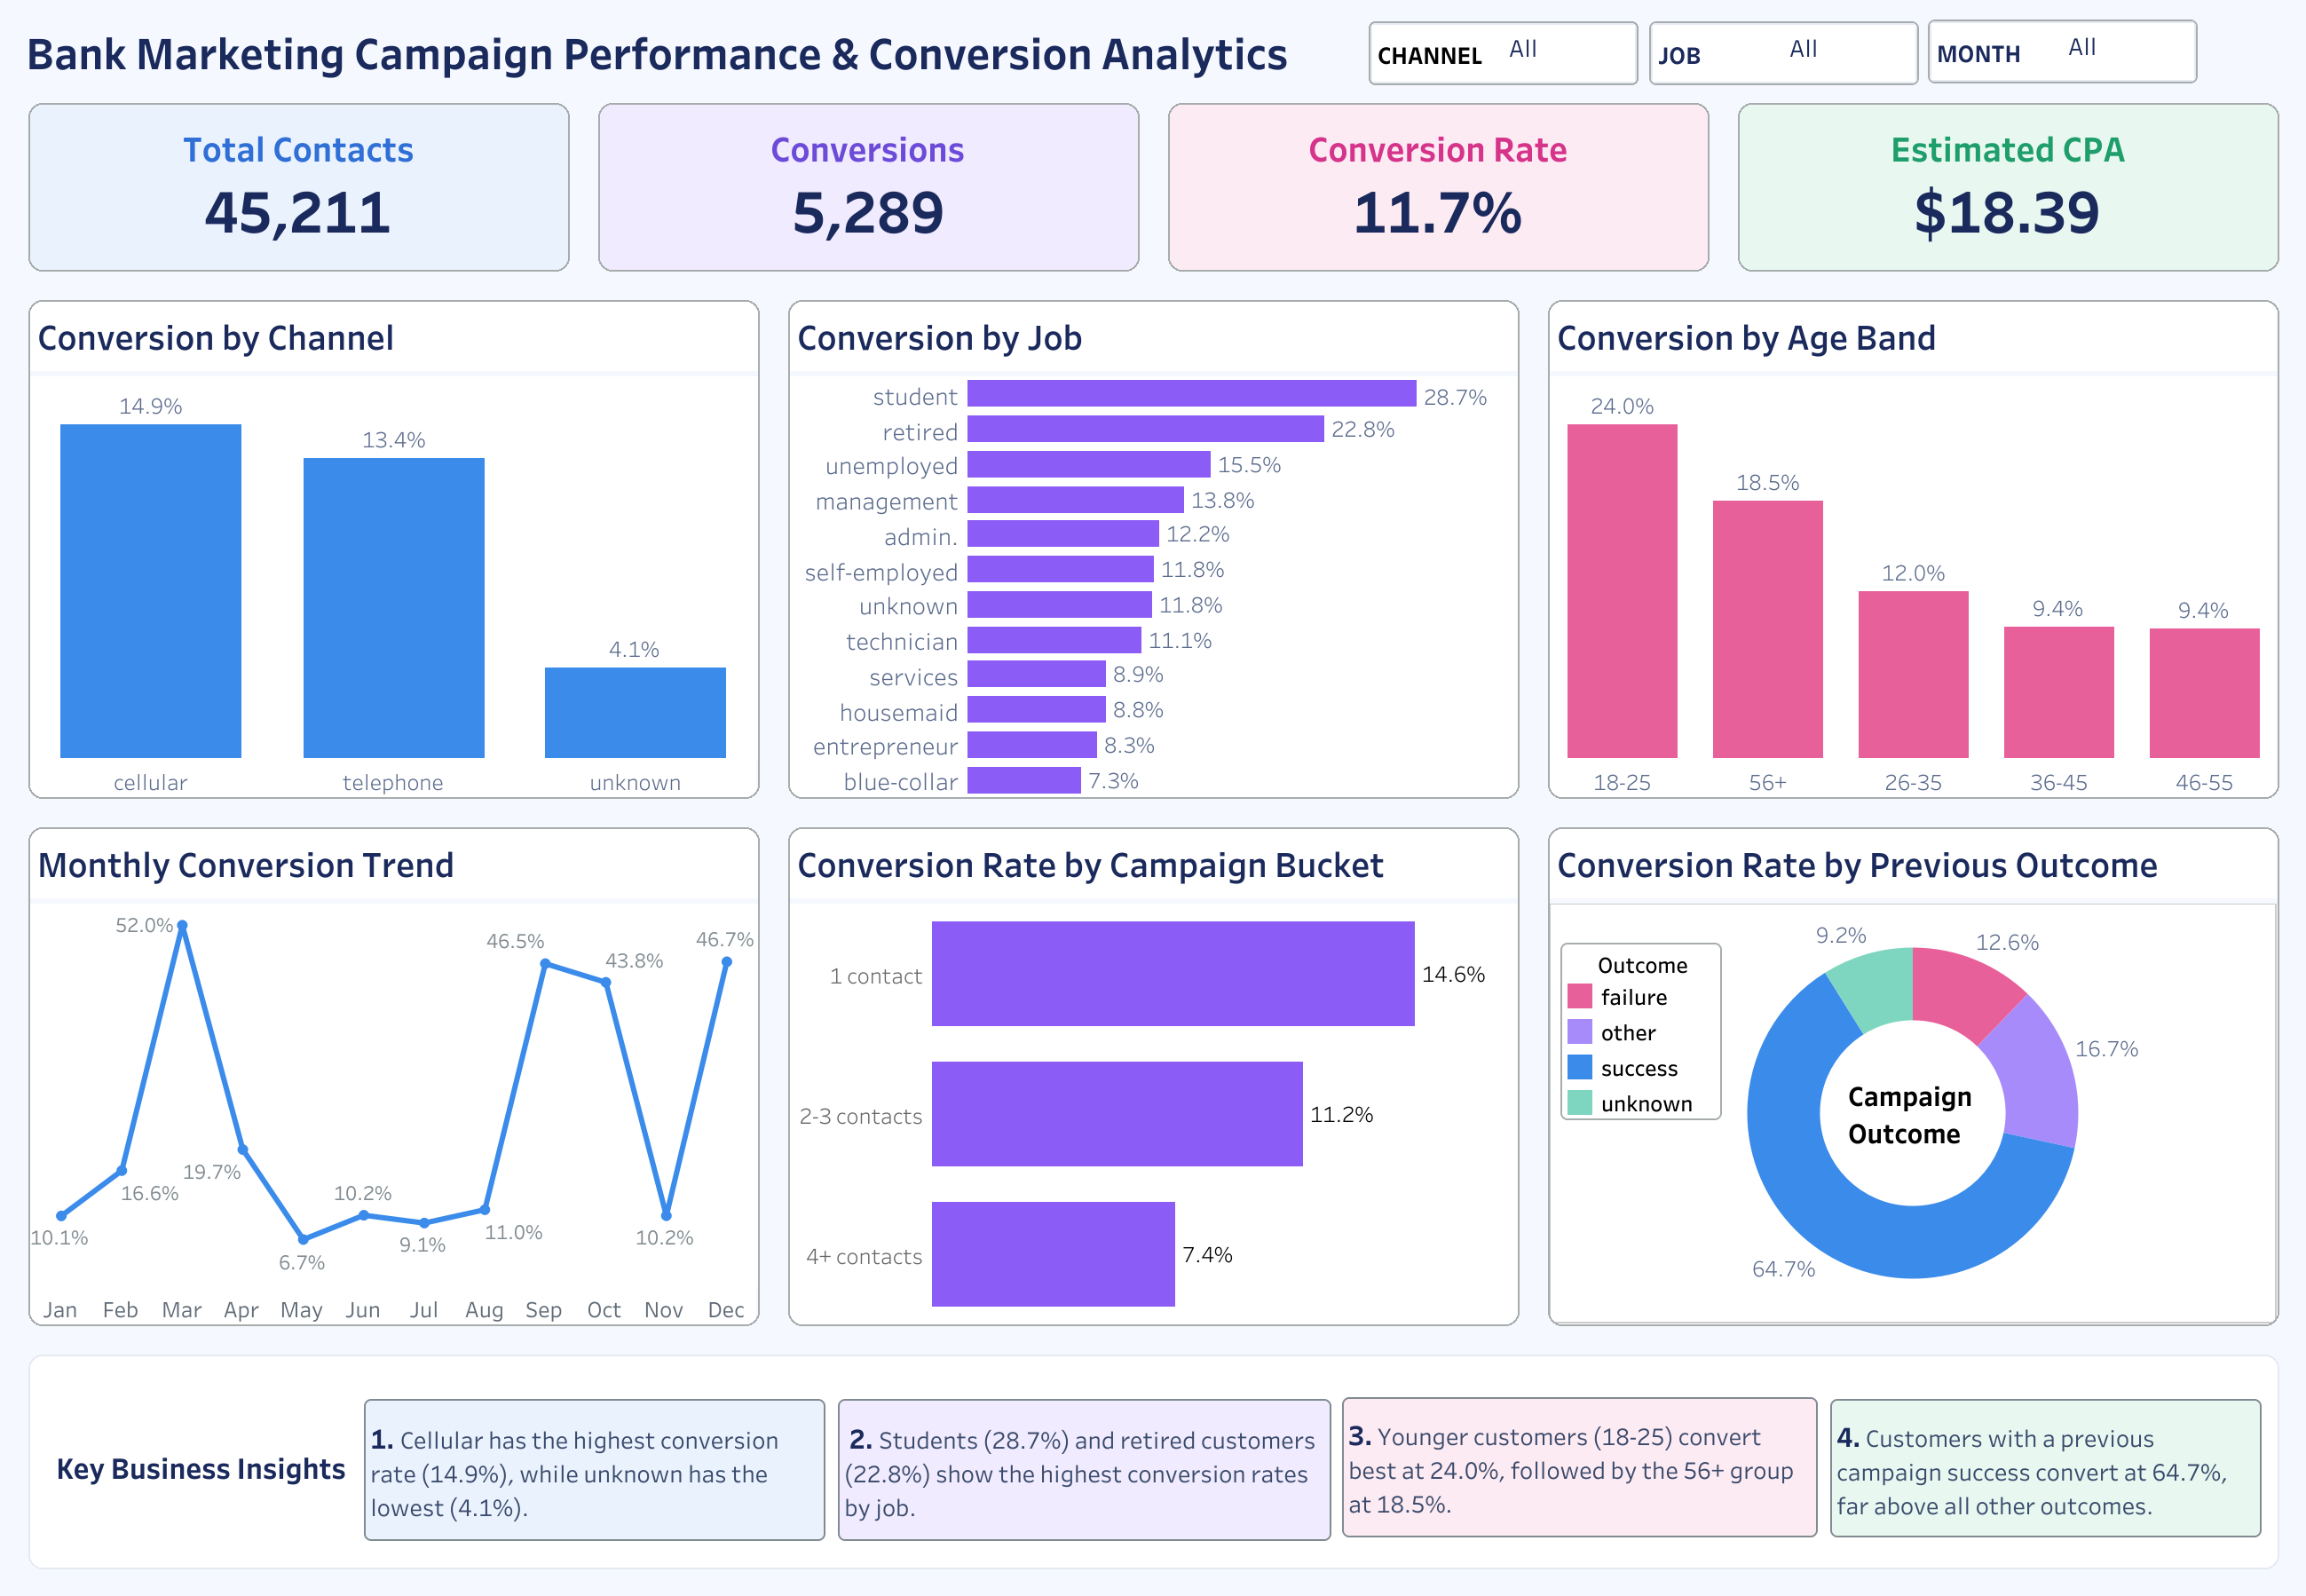

What the dashboard file says about the page in this screenshot:
{"tool":"tableau","page":{"name":"Campaign Performance Dashboard","canvas":[1300,900],"ordinal":0},"visuals":[{"type":"filter","title":"Conversion by Channel","param":"[federated.1grvyka0v1vzo01dgqan10u5mg6x].[none:month:nk]","box":[1082,7,160,44]},{"type":"title","box":[8,8,1284,41]},{"type":"filter","title":"Conversion by Channel","param":"[federated.1grvyka0v1vzo01dgqan10u5mg6x].[none:Channel:nk]","box":[767,8,160,44]},{"type":"filter","title":"Conversion by Channel","param":"[federated.1grvyka0v1vzo01dgqan10u5mg6x].[none:job:nk]","box":[925,8,160,44]},{"type":"worksheet","title":"KPI Total Contacts","mark":"Automatic","box":[8,49,321,111]},{"type":"worksheet","title":"KPI Conversions","mark":"Automatic","box":[329,49,321,111]},{"type":"worksheet","title":"KPI Conversion Rate","mark":"Automatic","box":[650,49,321,111]},{"type":"worksheet","title":"KPI Estimated CPA","mark":"Automatic","box":[971,49,321,111]},{"type":"worksheet","title":"Conversion by Channel","mark":"Automatic","rows":["Calculation_0061355819393026"],"cols":["Channel"],"box":[8,160,428,298]},{"type":"worksheet","title":"Conversion by Job","mark":"Automatic","rows":["job"],"cols":["Calculation_0061355819393026"],"box":[436,160,428,298]},{"type":"worksheet","title":"Conversion by Age Band","mark":"Automatic","rows":["Calculation_0061355819393026"],"cols":["Age_Band"],"box":[864,160,428,298]},{"type":"worksheet","title":"Monthly Conversion Trend","mark":"Line","rows":["Calculation_0061355819393026"],"cols":["month"],"box":[8,458,428,297]},{"type":"worksheet","title":"Conversion Rate by Campaign Bucket","mark":"Automatic","rows":["Campaign_Bucket"],"cols":["Calculation_0061355819393026"],"box":[436,458,428,297]},{"type":"worksheet","title":"Previous Campaign Outcome","mark":"Pie","rows":["Calculation_0169797073444865","Calculation_0169797073444865"],"box":[864,458,428,297]},{"type":"legend","title":"Previous Campaign Outcome","param":"[federated.1grvyka0v1vzo01dgqan10u5mg6x].[none:poutcome:nk]","box":[877,529,95,104]},{"type":"text","box":[754,785,272,83]},{"type":"text","box":[203,786,264,84]},{"type":"text","box":[470,786,282,84]},{"type":"text","box":[1029,786,247,82]},{"type":"text","box":[29,800,168,52]}]}

Visuals, with their boxes in screenshot pixels (x1, y1, x2, y2), scaled from the page's 1300x900 canvas onto the 2306x1596 screenshot:
"Conversion by Channel" filter: {"left": 1919, "top": 12, "right": 2203, "bottom": 91}
title: {"left": 14, "top": 14, "right": 2292, "bottom": 87}
"Conversion by Channel" filter: {"left": 1361, "top": 14, "right": 1645, "bottom": 92}
"Conversion by Channel" filter: {"left": 1641, "top": 14, "right": 1924, "bottom": 92}
"KPI Total Contacts" worksheet: {"left": 14, "top": 87, "right": 583, "bottom": 284}
"KPI Conversions" worksheet: {"left": 583, "top": 87, "right": 1153, "bottom": 284}
"KPI Conversion Rate" worksheet: {"left": 1153, "top": 87, "right": 1723, "bottom": 284}
"KPI Estimated CPA" worksheet: {"left": 1723, "top": 87, "right": 2292, "bottom": 284}
"Conversion by Channel" worksheet: {"left": 14, "top": 284, "right": 773, "bottom": 812}
"Conversion by Job" worksheet: {"left": 773, "top": 284, "right": 1533, "bottom": 812}
"Conversion by Age Band" worksheet: {"left": 1533, "top": 284, "right": 2292, "bottom": 812}
"Monthly Conversion Trend" worksheet (Line marks): {"left": 14, "top": 812, "right": 773, "bottom": 1339}
"Conversion Rate by Campaign Bucket" worksheet: {"left": 773, "top": 812, "right": 1533, "bottom": 1339}
"Previous Campaign Outcome" worksheet (Pie marks): {"left": 1533, "top": 812, "right": 2292, "bottom": 1339}
"Previous Campaign Outcome" legend: {"left": 1556, "top": 938, "right": 1725, "bottom": 1123}
text: {"left": 1338, "top": 1392, "right": 1820, "bottom": 1539}
text: {"left": 360, "top": 1394, "right": 828, "bottom": 1543}
text: {"left": 833, "top": 1394, "right": 1334, "bottom": 1543}
text: {"left": 1825, "top": 1394, "right": 2263, "bottom": 1539}
text: {"left": 51, "top": 1418, "right": 350, "bottom": 1511}
